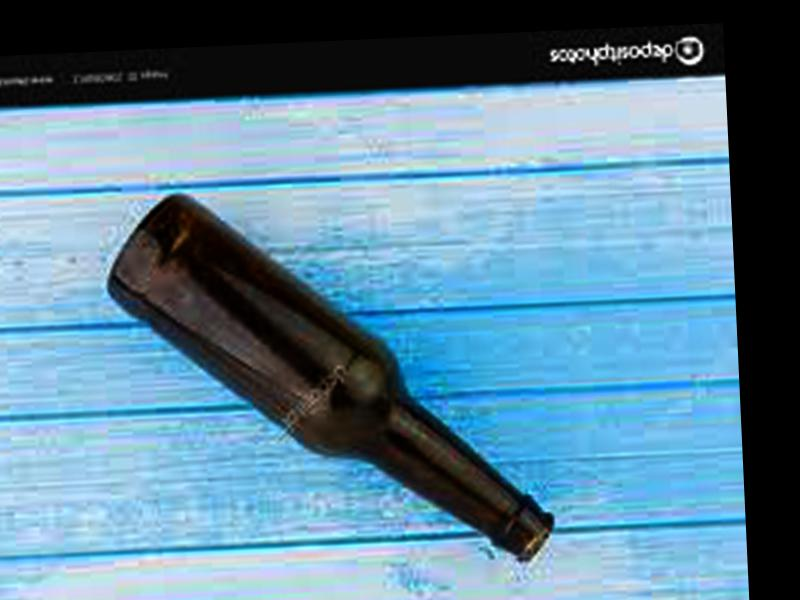Beer: (102, 171, 552, 581)
